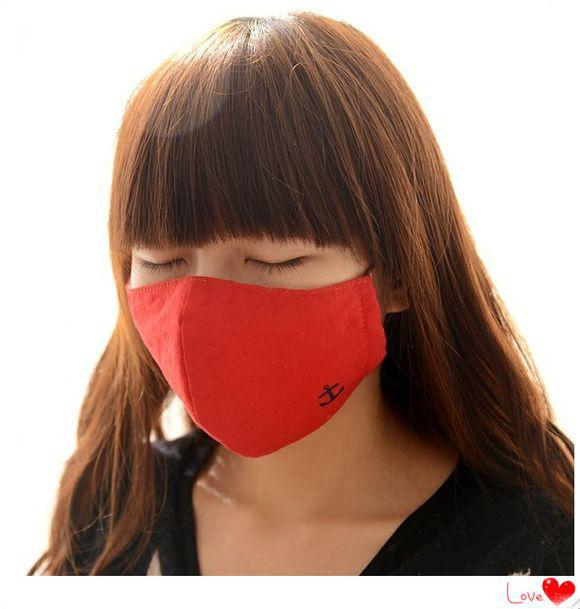OK: (134, 221, 365, 452)
